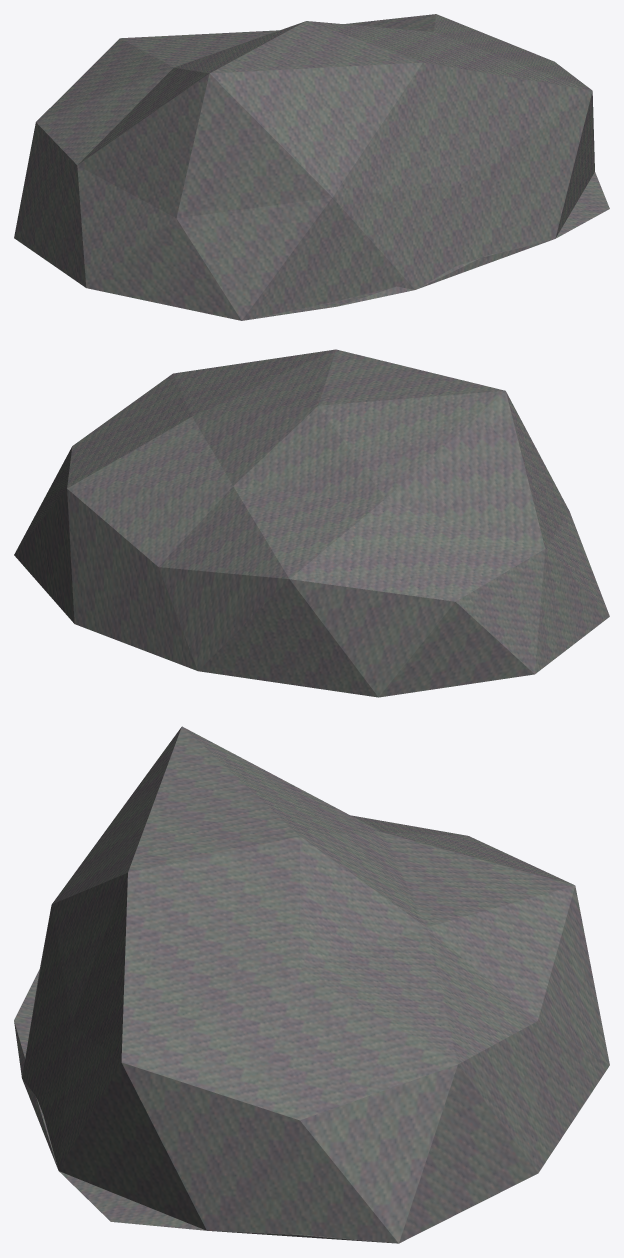
The model's file is rock_med_gray_a.dae.
3 views of the same model, one above another, from view 1: azimuth 30°, elevation 25°; view 2: azimuth 150°, elevation 25°; view 3: azimuth 270°, elevation 25° (orthographic). The views are drawn at different scales.
Parts seen in each view (by area): view 1: rock_mesh; view 2: rock_mesh; view 3: rock_mesh.
Part boxes in pixels (x1,y1,x2,y2): rock_mesh: (14, 14, 609, 320); rock_mesh: (14, 349, 609, 697); rock_mesh: (14, 726, 609, 1243).
Bounding box in the file's own units: 1.3 × 0.9959 × 0.4863.
1 material, 1 textured.
